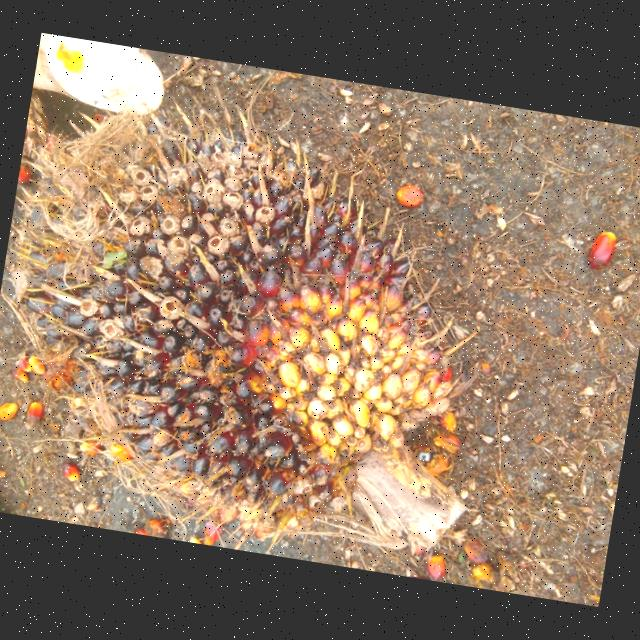Unripe: (18, 143, 455, 527)
